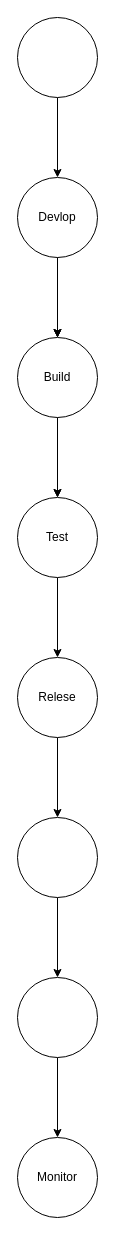
The diagram is 115 pixels wide and 1235 high, and some of its shapes have lost their labels. The shapes that lost their labels are listed below. From the top down, each one's centre as x and y in pixels, then its label:
At point 57,57: "Plan".
At point 57,857: "Deploy".
At point 57,1017: "Operate".
